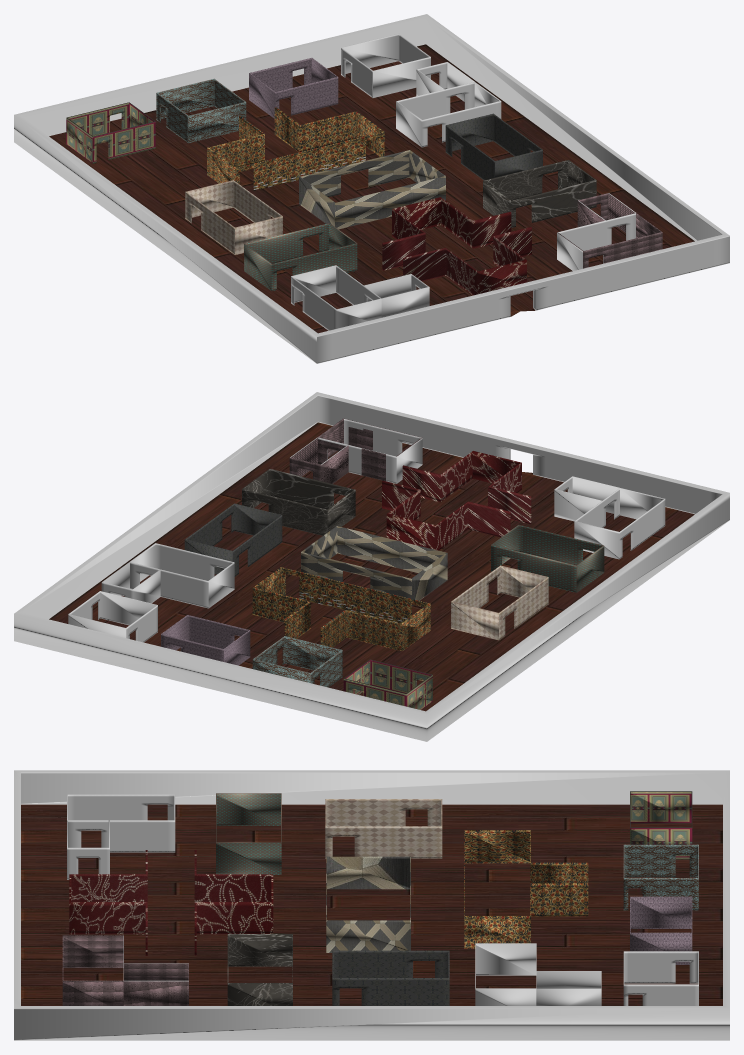
Rendered from TexturedFloor.fbx.
The picture shows the model from 3 angles, top to bottom: view 1: azimuth 30°, elevation 25°; view 2: azimuth 150°, elevation 25°; view 3: azimuth 270°, elevation 25°; orthographic projection. The views are drawn at different scales.
Visible parts, largest first — view 1: Cube, Cube_016, Cube_001, Cube_004, Cube_002, Cube_007, Cube_017, Cube_013, Cube_012, Cube_015, Cube_003, Cube_014 (+3 smaller); view 2: Cube, Cube_016, Cube_001, Cube_004, Cube_007, Cube_017, Cube_002, Cube_012, Cube_013, Cube_015, Cube_014, Cube_010 (+3 smaller); view 3: Cube, Cube_016, Cube_001, Cube_007, Cube_002, Cube_015, Cube_014, Cube_004, Cube_017, Cube_012, Cube_003, Cube_011 (+3 smaller).
Part boxes in pixels (bbox=[...]): Cube: bbox=[14, 14, 729, 363]; Cube_016: bbox=[382, 197, 531, 295]; Cube_001: bbox=[207, 107, 384, 190]; Cube_004: bbox=[299, 150, 445, 229]; Cube_002: bbox=[291, 265, 429, 330]; Cube_007: bbox=[557, 193, 662, 270]; Cube_017: bbox=[396, 62, 501, 147]; Cube_013: bbox=[483, 160, 596, 227]; Cube_012: bbox=[244, 223, 357, 291]; Cube_015: bbox=[185, 180, 282, 254]; Cube_003: bbox=[156, 78, 246, 143]; Cube_014: bbox=[445, 113, 542, 180]; Cube: bbox=[14, 392, 729, 741]; Cube_016: bbox=[382, 451, 531, 550]; Cube_001: bbox=[252, 567, 430, 651]; Cube_004: bbox=[301, 526, 447, 605]; Cube_007: bbox=[289, 418, 422, 483]; Cube_017: bbox=[101, 543, 234, 608]; Cube_002: bbox=[554, 476, 665, 559]; Cube_012: bbox=[491, 524, 604, 592]; Cube_013: bbox=[242, 469, 355, 535]; Cube_015: bbox=[451, 565, 548, 640]; Cube_014: bbox=[184, 503, 282, 576]; Cube_010: bbox=[161, 615, 250, 665]; Cube: bbox=[14, 770, 729, 1040]; Cube_016: bbox=[69, 850, 273, 955]; Cube_001: bbox=[464, 830, 588, 948]; Cube_007: bbox=[62, 935, 188, 1005]; Cube_002: bbox=[67, 794, 175, 879]; Cube_015: bbox=[325, 799, 442, 858]; Cube_014: bbox=[332, 950, 449, 1005]; Cube_004: bbox=[326, 856, 410, 952]; Cube_017: bbox=[475, 943, 601, 1005]; Cube_012: bbox=[216, 793, 281, 874]; Cube_003: bbox=[623, 844, 698, 910]; Cube_011: bbox=[623, 951, 698, 1005].
Size of the model in its own units: 31.83 by 2.2 by 40.43.
